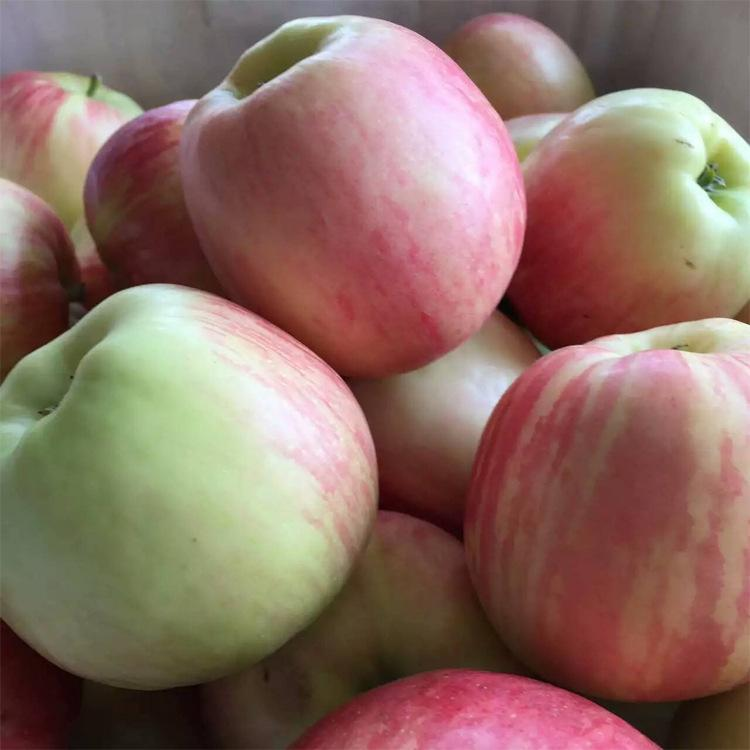apple: (2, 287, 384, 687), (184, 16, 527, 374), (462, 320, 745, 703), (504, 84, 749, 339)
